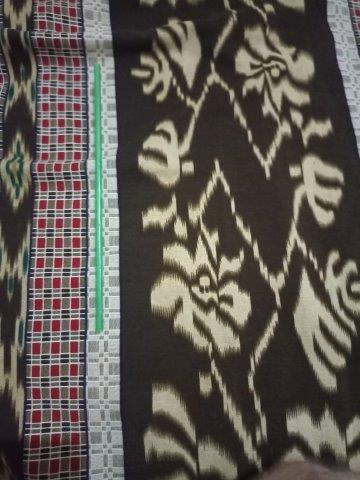sedotan: (94, 64, 102, 331)
